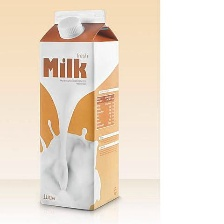carton: (34, 8, 121, 214)
